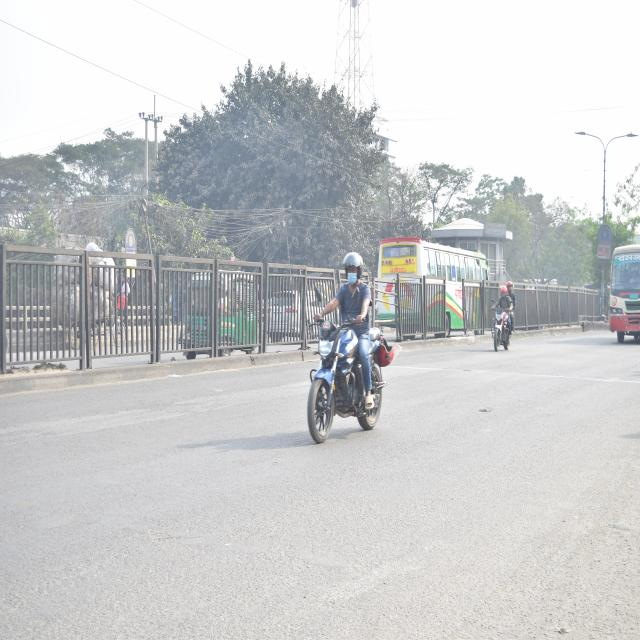bus: (604, 240, 640, 344)
motorbike: (293, 284, 392, 452), (483, 282, 520, 354)
